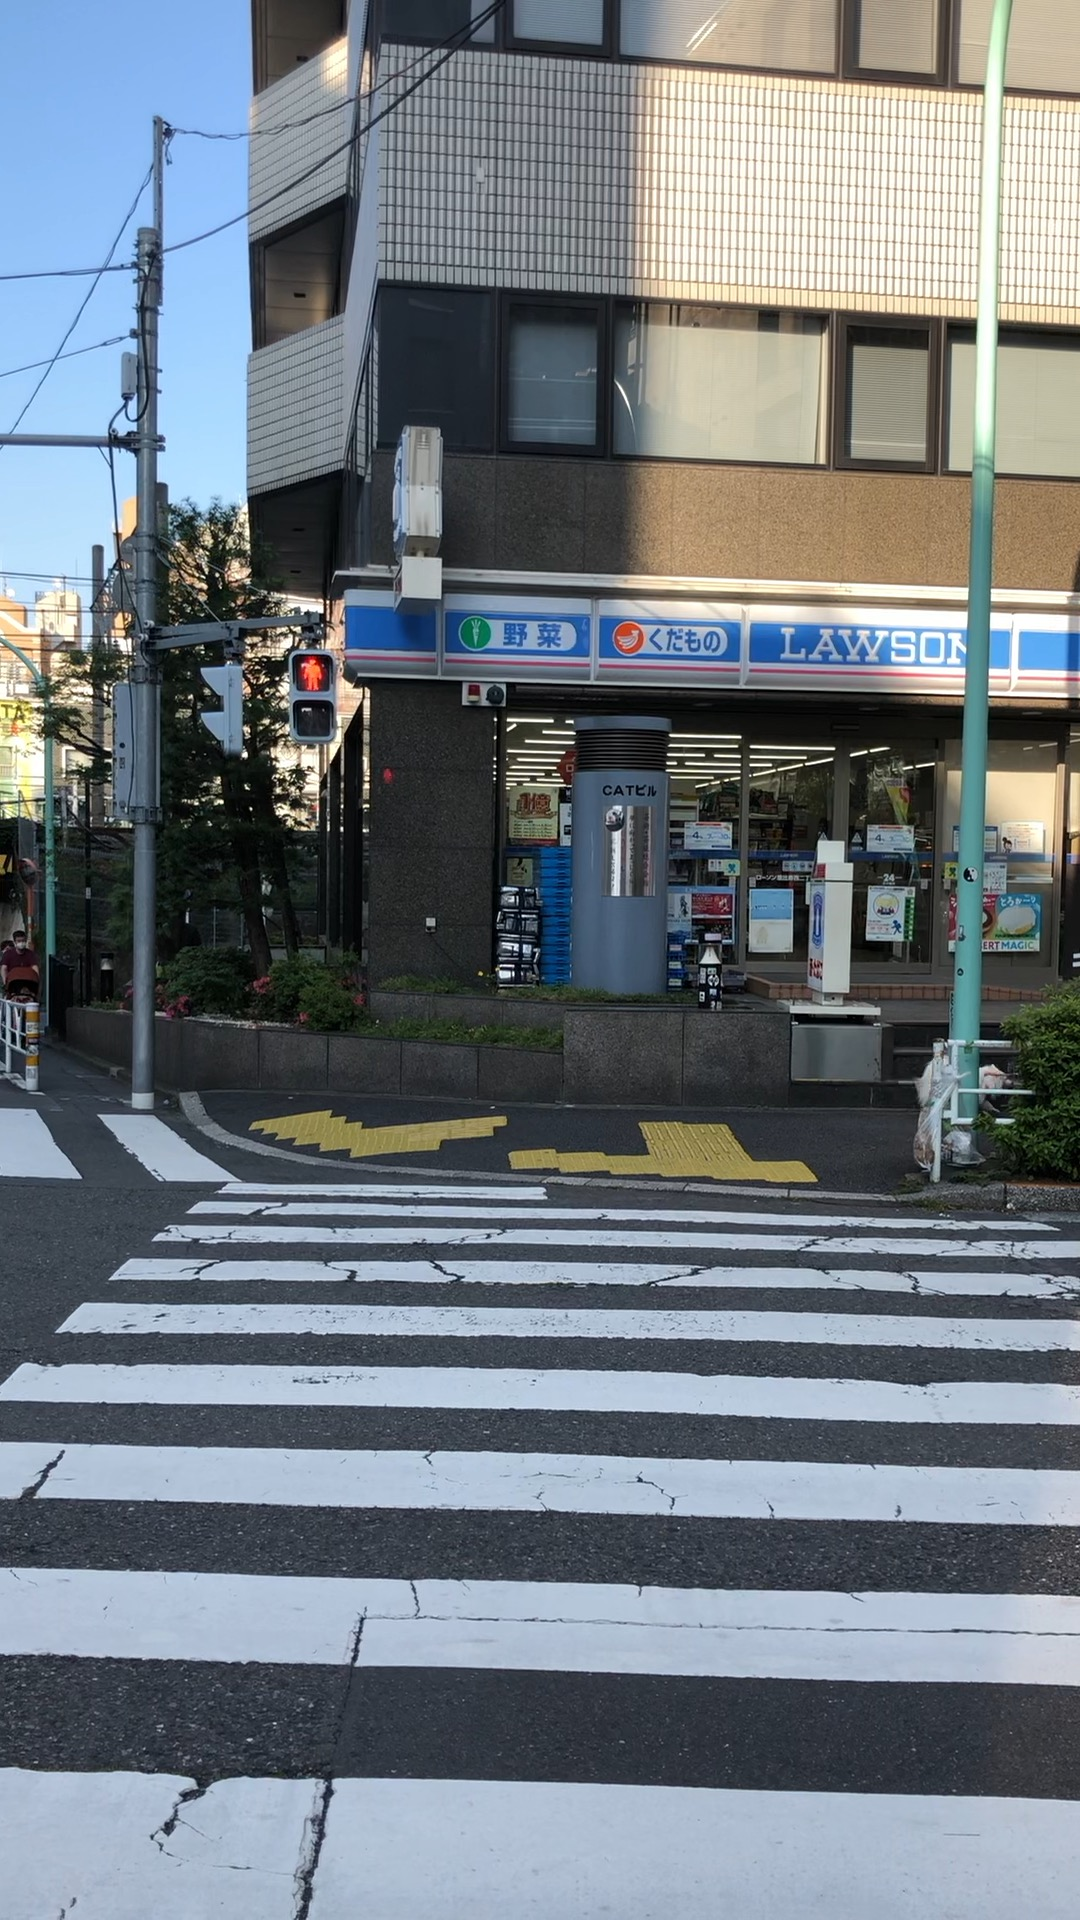red: (286, 649, 338, 744)
